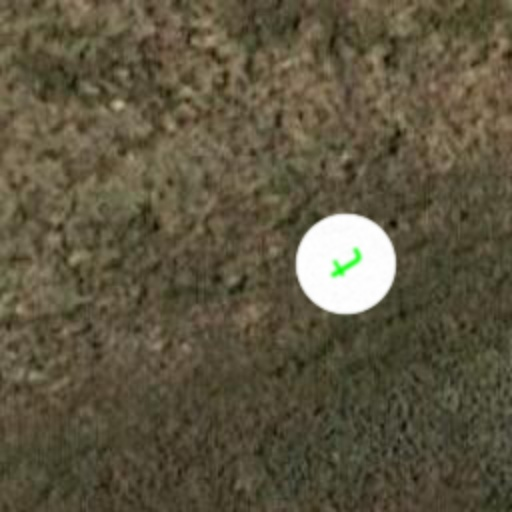circle: (276, 194, 416, 334)
